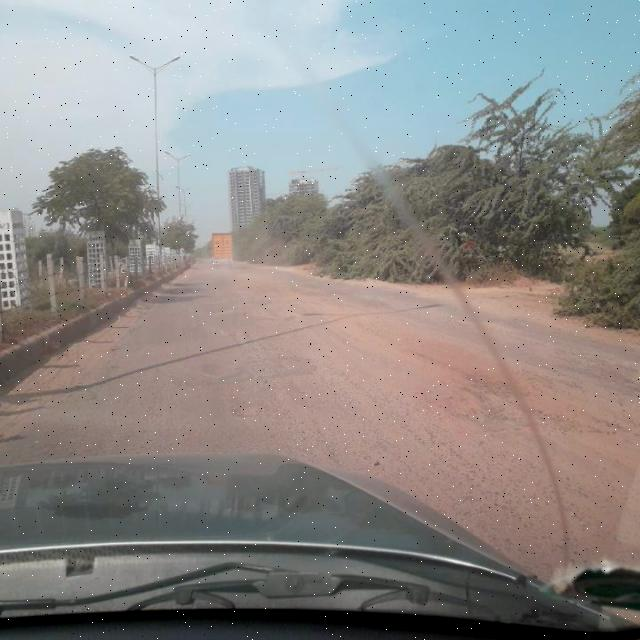D40: (415, 347, 629, 458), (246, 281, 382, 323), (195, 293, 242, 319), (234, 404, 282, 429)
